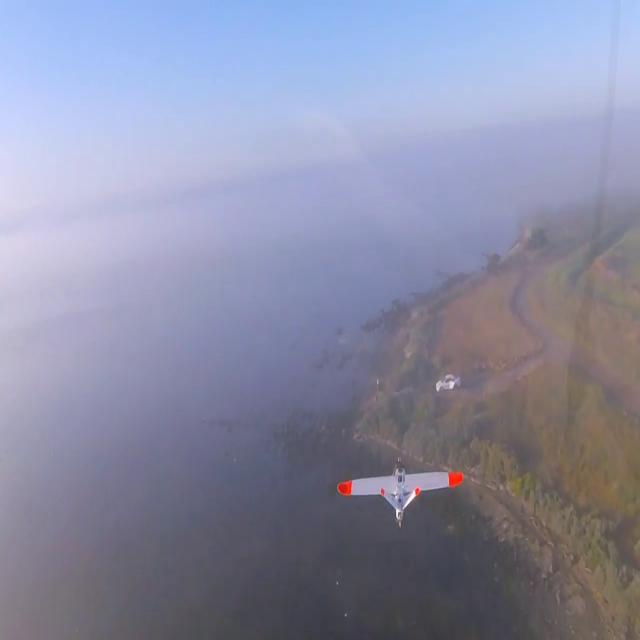iha: (338, 489, 466, 493)
